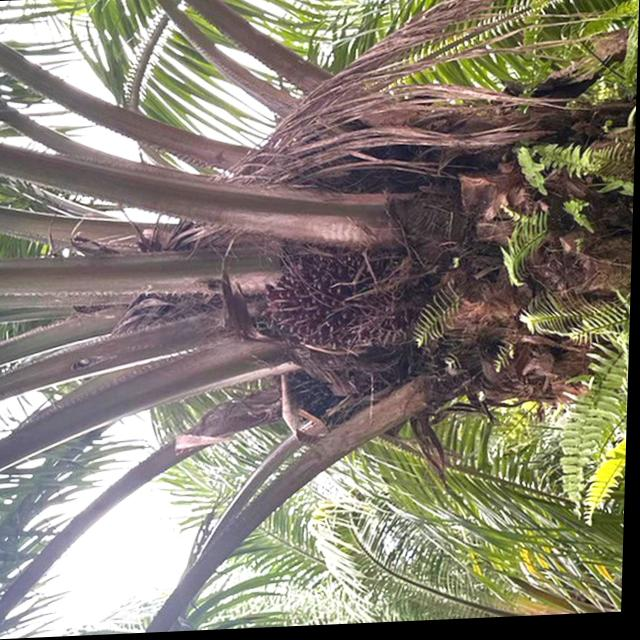ripe: (249, 232, 436, 368)
